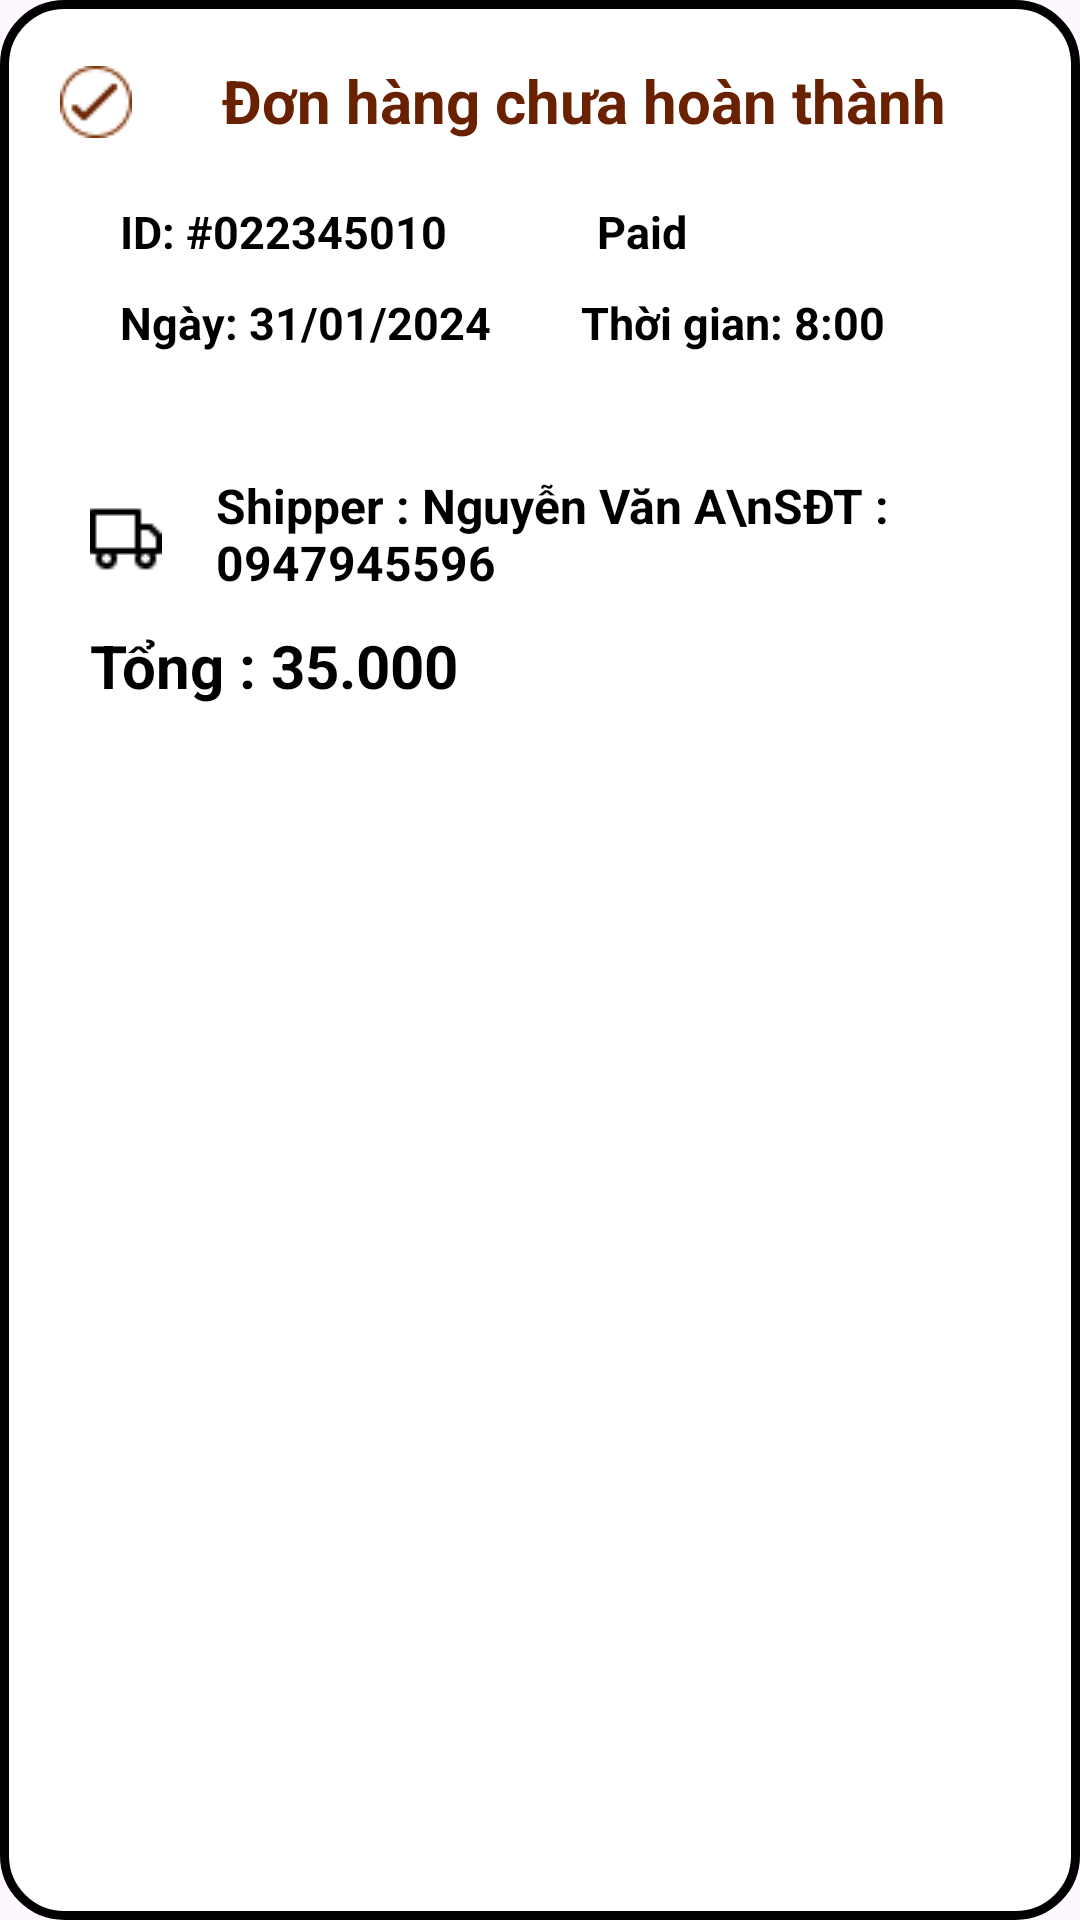

Where icons sit on this 1080*1920 app screen, as Rect(x1, y1, x2, y2):
truck: Rect(90, 508, 162, 570)
